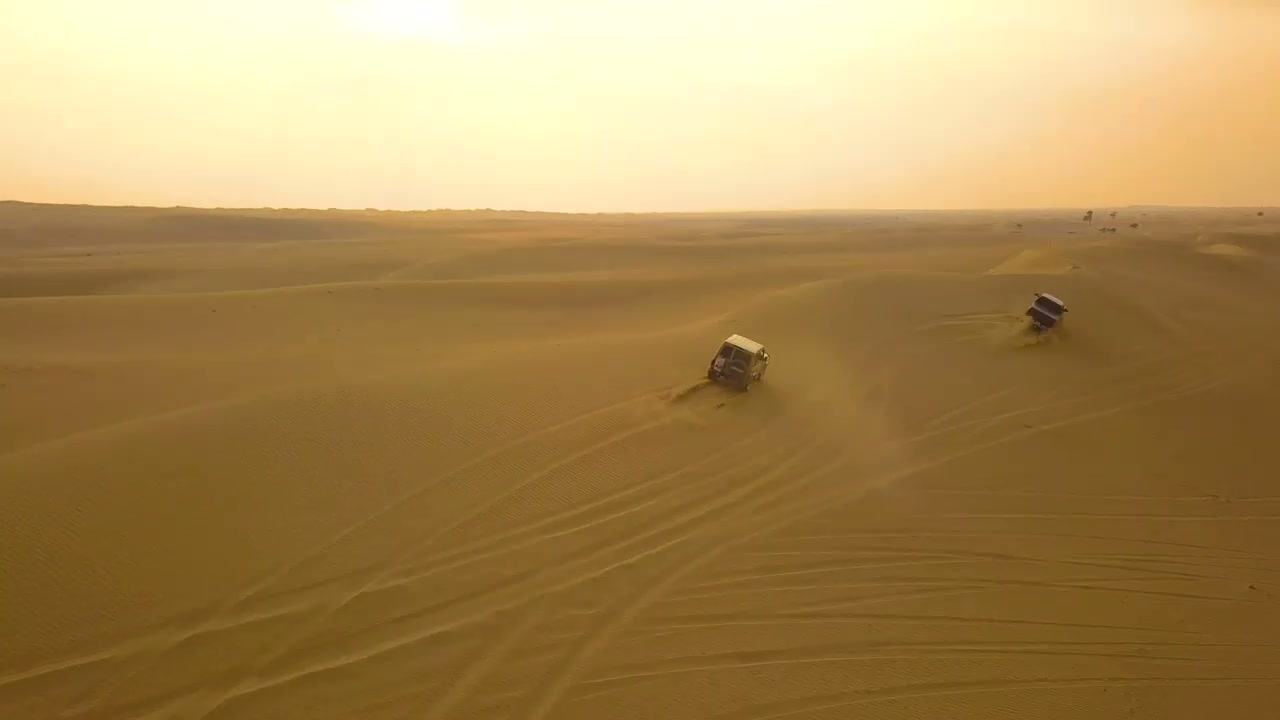vehicle_track: (524, 381, 1217, 719), (19, 391, 654, 713), (187, 483, 751, 716), (521, 514, 756, 719), (581, 640, 1279, 688), (706, 676, 1279, 719)
